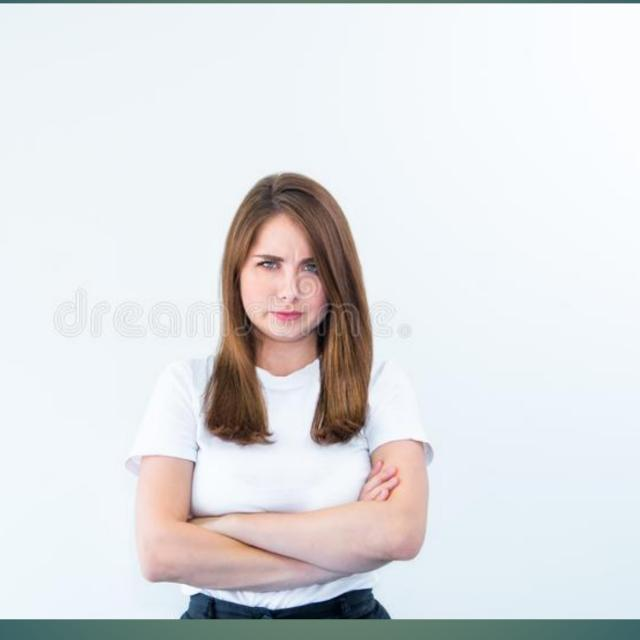Angry: (208, 191, 360, 361)
